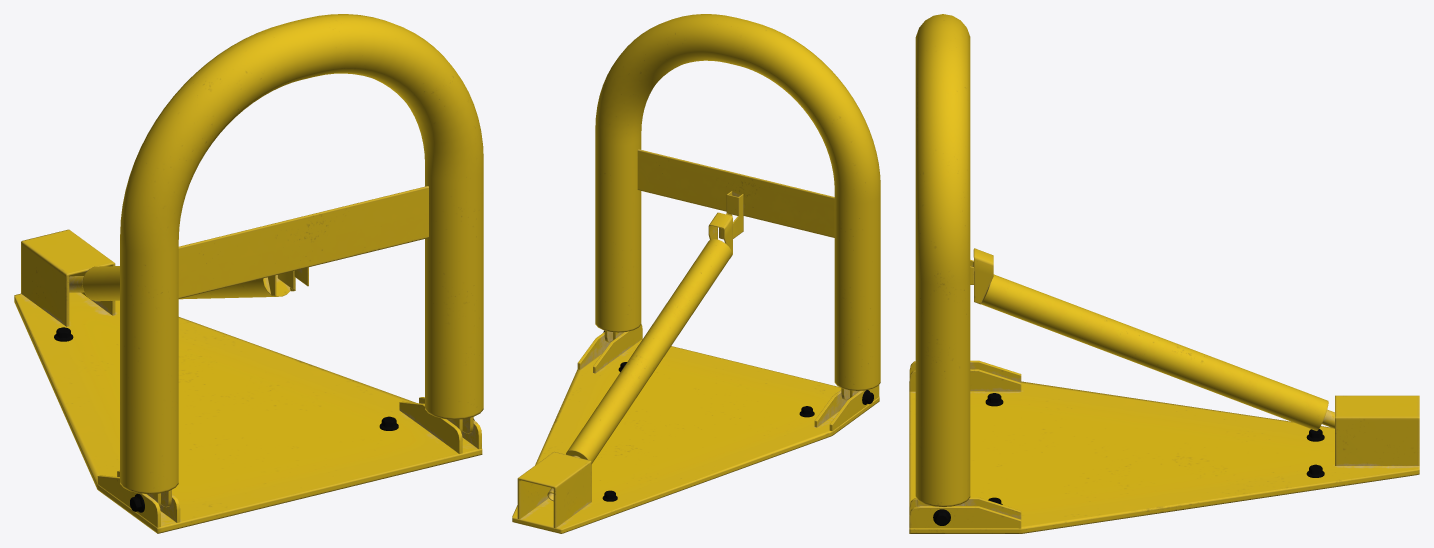
3 views of the same model, side by side, from view 1: azimuth 30°, elevation 25°; view 2: azimuth 150°, elevation 25°; view 3: azimuth 270°, elevation 25° (orthographic). The views are drawn at different scales.
Visible parts, largest first — view 1: AM218_052_Parkink Lock; view 2: AM218_052_Parkink Lock; view 3: AM218_052_Parkink Lock.
Boxes of the visible parts, bbox=[...] form: AM218_052_Parkink Lock: bbox=[14, 14, 483, 533]; AM218_052_Parkink Lock: bbox=[512, 14, 880, 533]; AM218_052_Parkink Lock: bbox=[909, 14, 1419, 533].
Bounding box in the file's own units: 62.63 × 76.97 × 83.57.
Materials: 1 (1 with a texture image).
